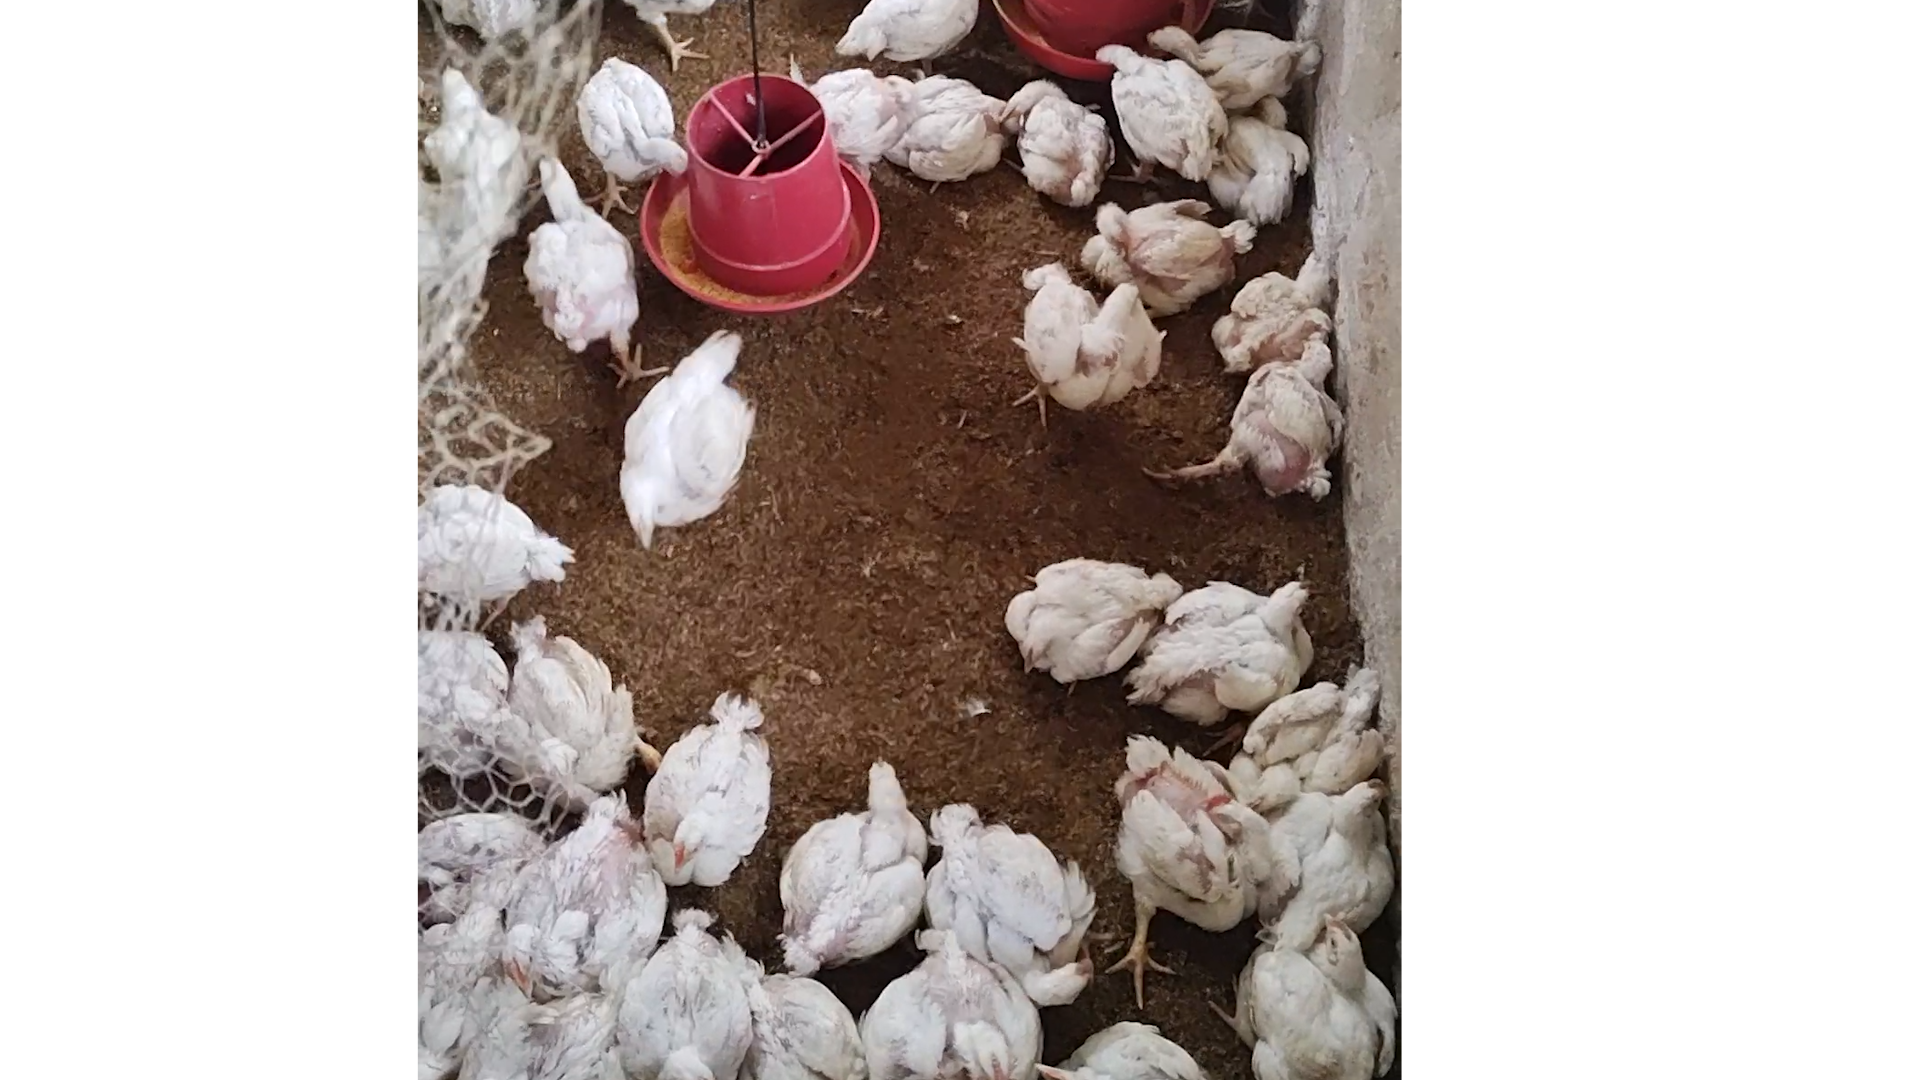Pollos: (1087, 725, 1276, 968), (483, 786, 670, 1000), (775, 744, 938, 976), (612, 324, 761, 560), (861, 899, 1054, 1080), (1113, 568, 1327, 727), (928, 808, 1097, 1005), (1218, 905, 1407, 1080), (525, 146, 658, 390), (1147, 335, 1338, 501), (493, 621, 651, 800), (1005, 258, 1155, 446), (1240, 778, 1404, 942), (404, 475, 580, 626), (644, 692, 777, 893), (993, 553, 1178, 694), (616, 906, 758, 1080), (1217, 663, 1386, 798), (880, 55, 1038, 194), (1081, 189, 1251, 311), (989, 73, 1134, 210), (1091, 37, 1222, 179), (576, 46, 686, 210), (804, 50, 931, 174), (1156, 9, 1316, 105), (837, 0, 985, 66)
